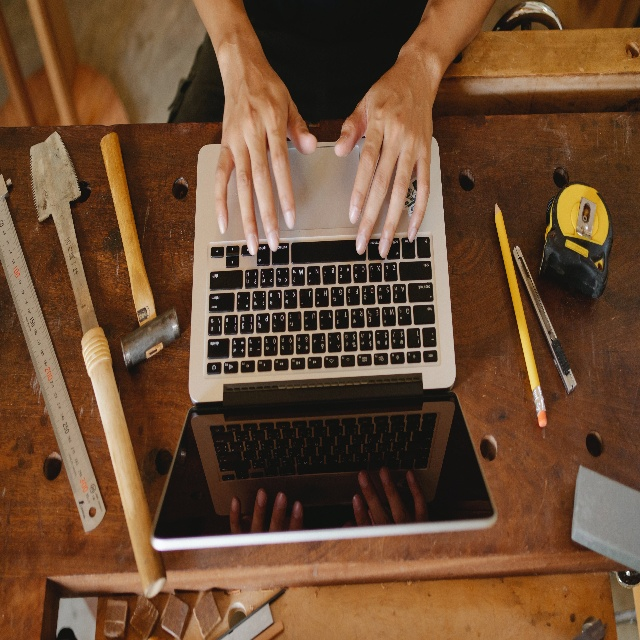Sin_guantes: (213, 49, 317, 258), (334, 50, 438, 259)
